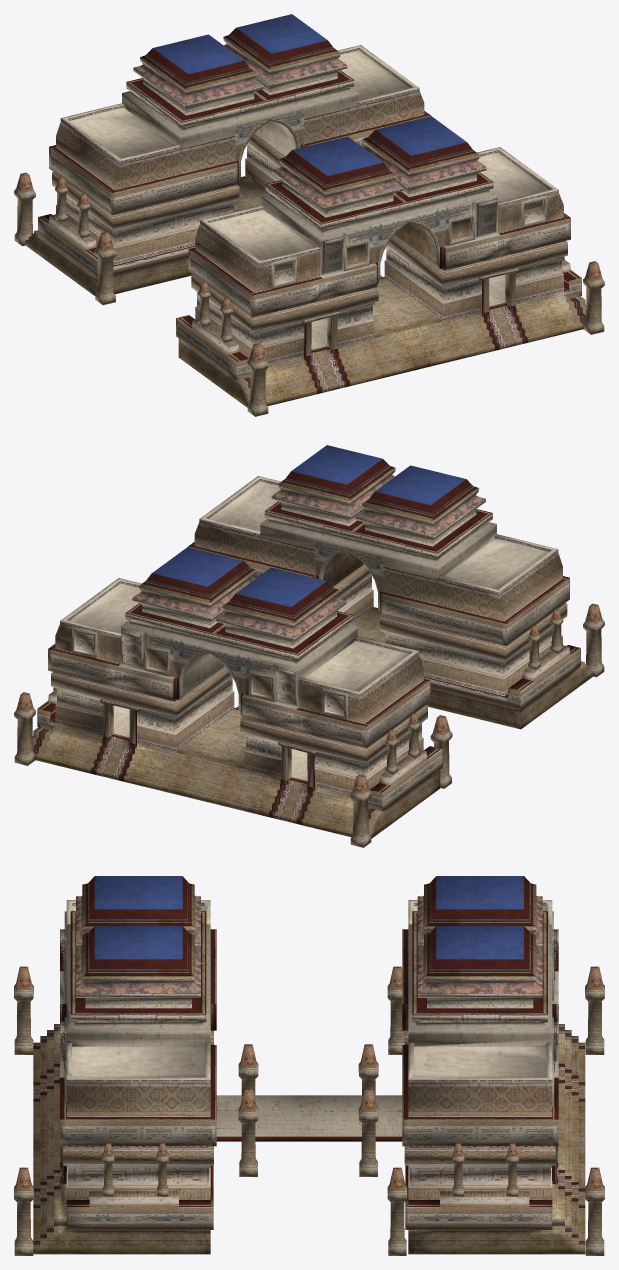
The model's file is building6.dae.
The picture shows the model from 3 angles, top to bottom: view 1: azimuth 30°, elevation 25°; view 2: azimuth 150°, elevation 25°; view 3: azimuth 270°, elevation 25°; orthographic projection. The views are drawn at different scales.
Visible parts, largest first — view 1: meshU3D; view 2: meshU3D; view 3: meshU3D.
Boxes of the visible parts, x1,y1,x2,y2 form: meshU3D: (14,14,604,416); meshU3D: (14,445,604,847); meshU3D: (14,876,604,1255).
Size of the model in its own units: 939 by 490 by 1121.
Materials: 5 (5 with a texture image).
